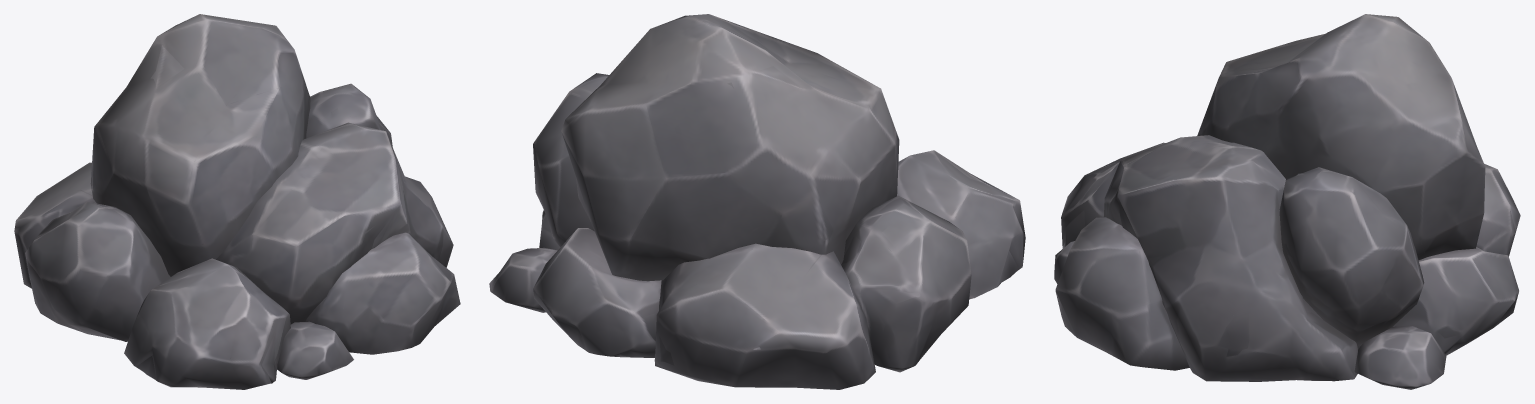
Rendered from node-rock.glb.
The picture shows the model from 3 angles, left to right: view 1: azimuth 30°, elevation 25°; view 2: azimuth 150°, elevation 25°; view 3: azimuth 270°, elevation 25°; orthographic projection. The views are drawn at different scales.
Visible parts, largest first — view 1: geometry_0; view 2: geometry_0; view 3: geometry_0.
Boxes of the visible parts, bbox=[...] form: geometry_0: bbox=[14, 14, 460, 389]; geometry_0: bbox=[489, 14, 1025, 389]; geometry_0: bbox=[1054, 14, 1520, 389].
Bounding box in the file's own units: 1 × 0.6884 × 0.9991.
1 material, 1 textured.
